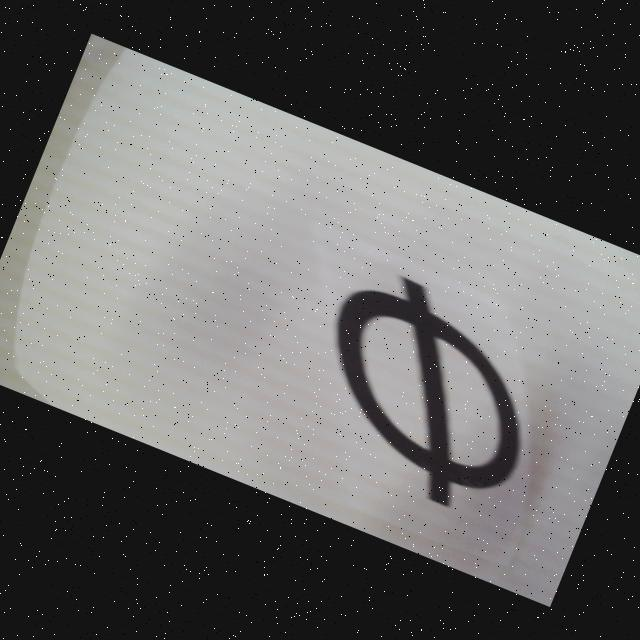PHI: (284, 256, 568, 526)
